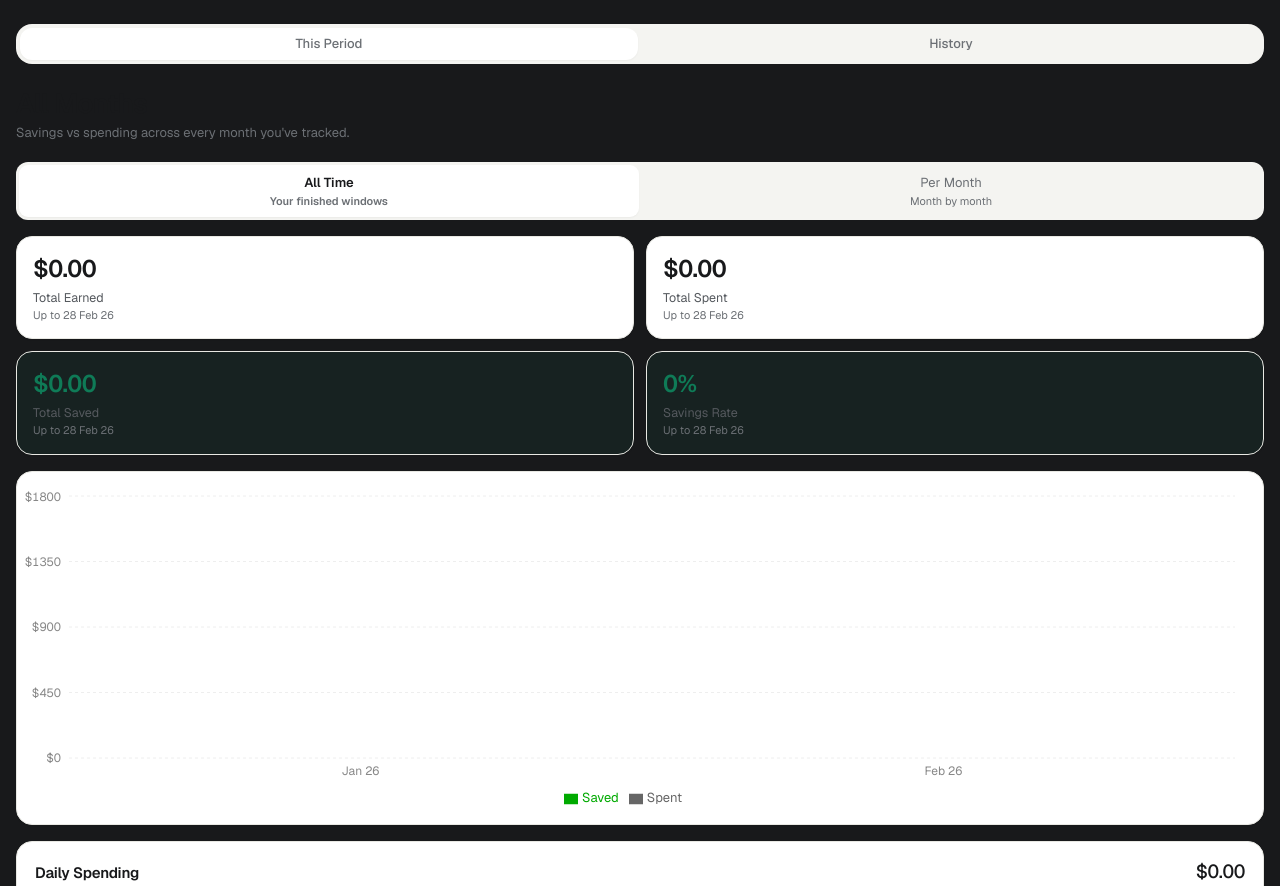
the two savings rates › keeps the per-month average as its own, different figure
What coordinates should you click on to do the following:
click the button "Per Month Month by month"
I would click on:
 (951, 191)
Its box is left=641, top=165, right=1261, bottom=217.
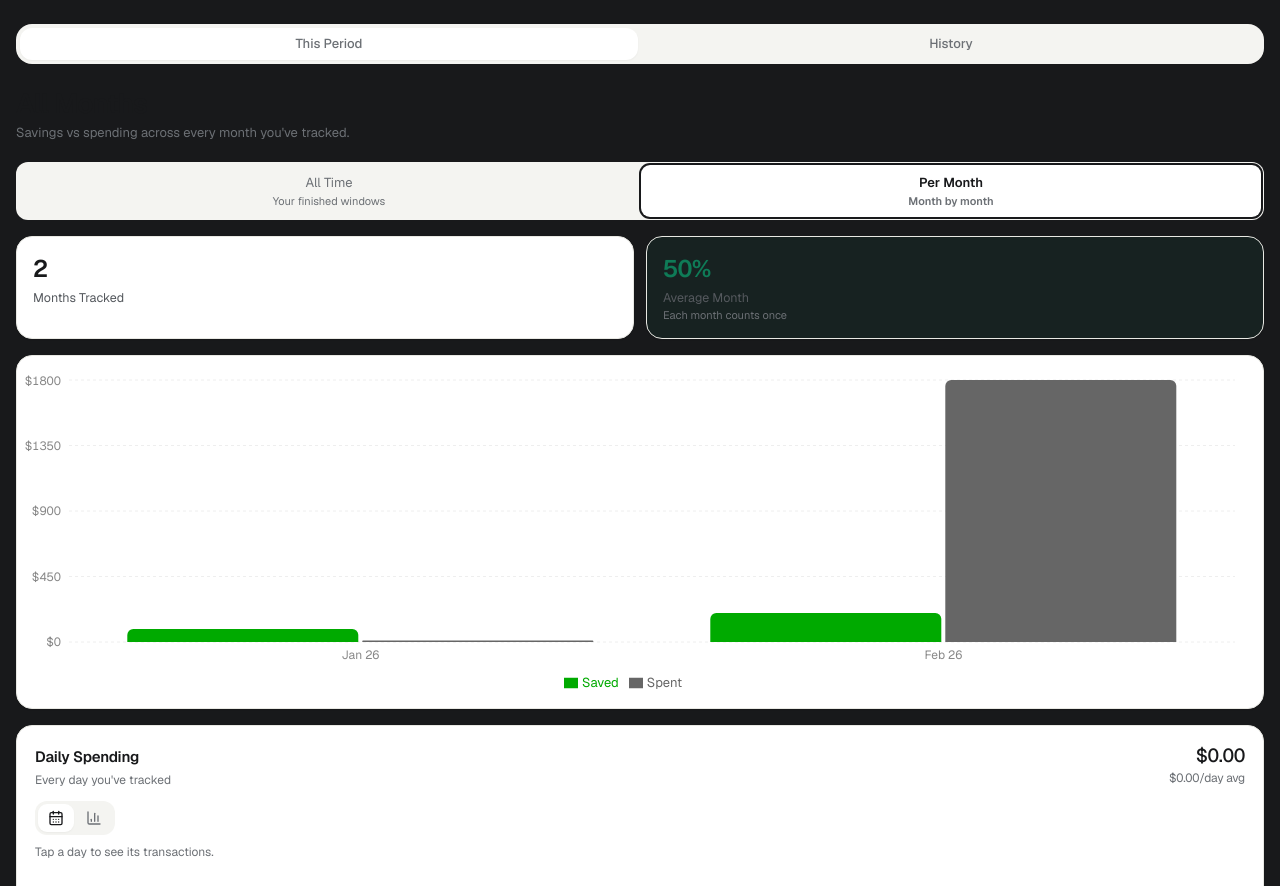
Now the element showing "50%" is shown, box left=663, top=253, right=711, bottom=284
Now the text "Each month counts once" is shown, box left=663, top=308, right=787, bottom=322
